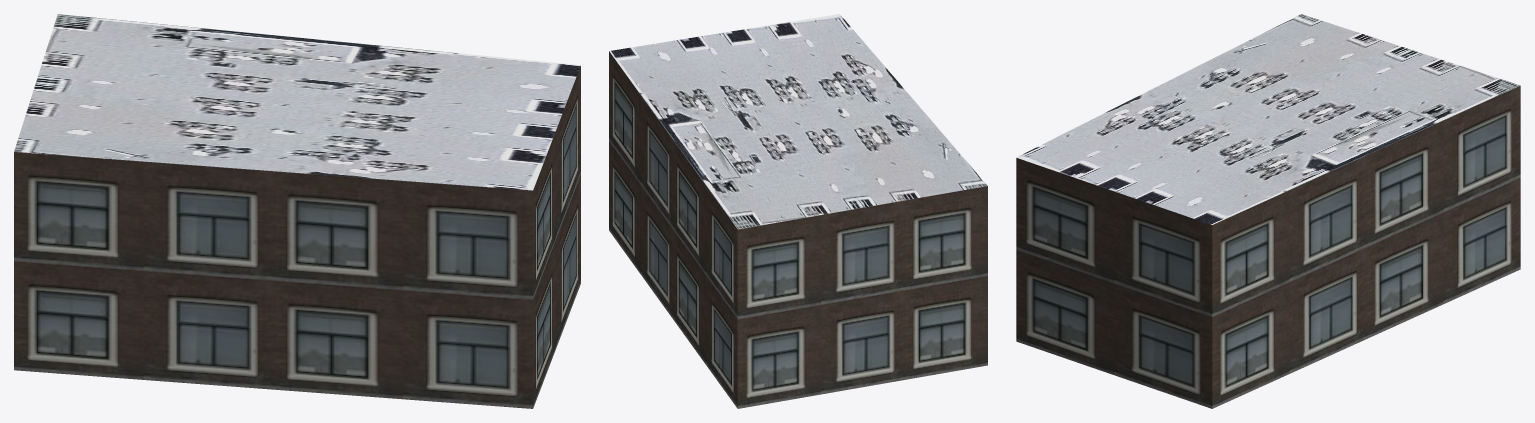
The model's file is ResTex__1060.fbx.
3 renders of one model, left to right at view 1: azimuth 30°, elevation 25°; view 2: azimuth 150°, elevation 25°; view 3: azimuth 270°, elevation 25°, orthographic. The views are drawn at different scales.
Parts seen in each view (by area): view 1: CityEngineMaterial_16_m, CityEngineMaterial_15_m; view 2: CityEngineMaterial_16_m, CityEngineMaterial_15_m; view 3: CityEngineMaterial_16_m, CityEngineMaterial_15_m.
Part boxes in pixels (<box>): CityEngineMaterial_16_m: <box>14,66,580,408</box>; CityEngineMaterial_15_m: <box>14,14,580,190</box>; CityEngineMaterial_16_m: <box>609,51,987,408</box>; CityEngineMaterial_15_m: <box>609,14,987,229</box>; CityEngineMaterial_16_m: <box>1016,85,1520,408</box>; CityEngineMaterial_15_m: <box>1016,14,1520,224</box>.
Size of the model in its own units: 14.77 by 6 by 14.92.
Materials: 2 (2 with a texture image).
